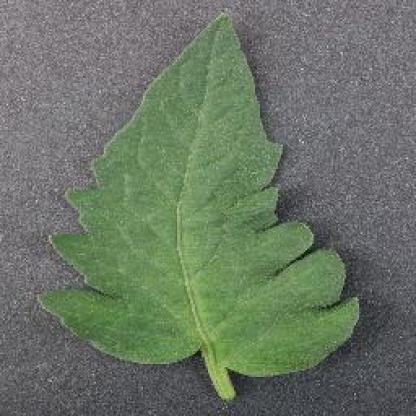good leaf: (64, 29, 341, 374)
